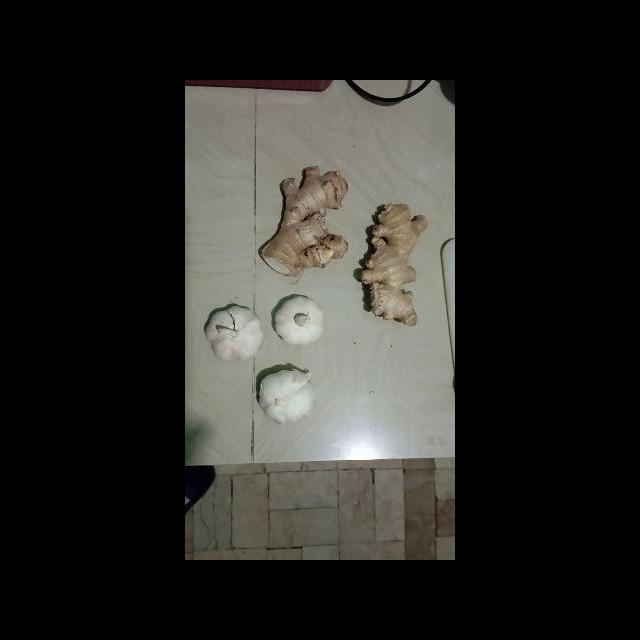garlic: (202, 301, 267, 362), (259, 367, 317, 425), (274, 294, 325, 344)
ginger: (257, 161, 352, 277), (356, 196, 426, 326)
